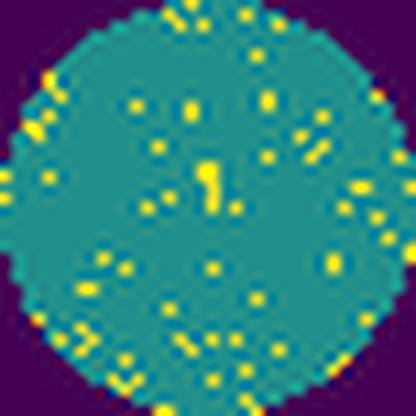Center: (191, 151, 228, 224)
